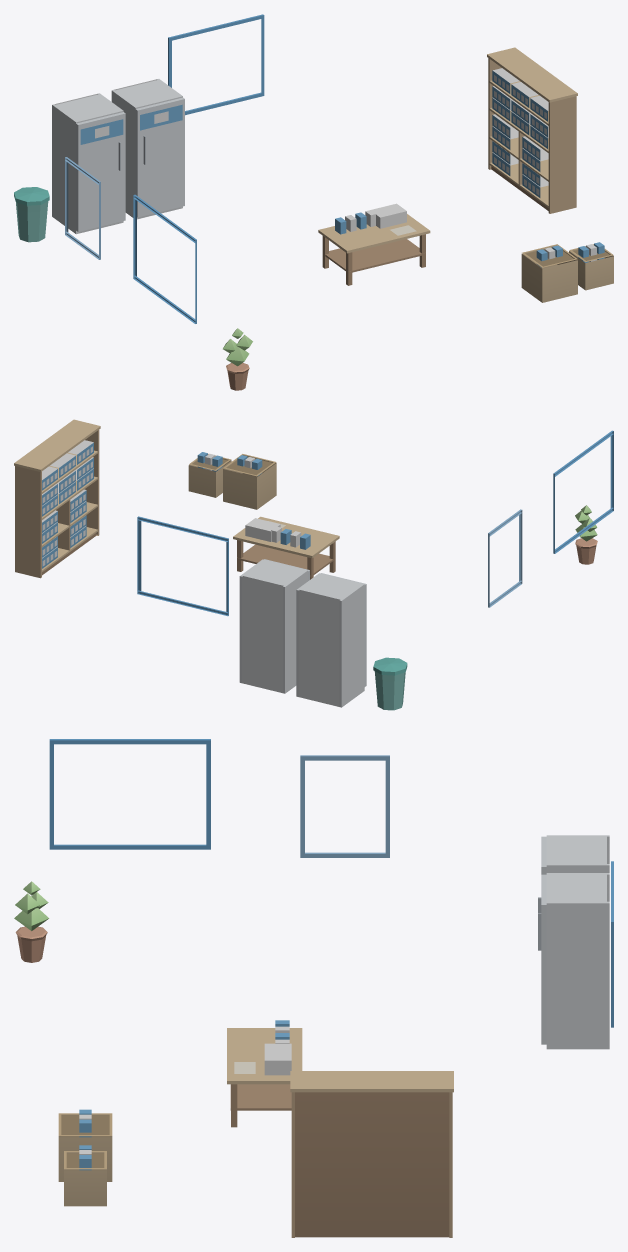
File: susu_interior_props.glb
3 renders of one model, top to bottom at view 1: azimuth 30°, elevation 25°; view 2: azimuth 150°, elevation 25°; view 3: azimuth 270°, elevation 25°, orthographic. The views are drawn at different scales.
Visible parts, largest first — view 1: rak_susu, meja_agih, pintu_peti_2, pintu_peti_1, peti_sejuk_1, lalu_bingkai, kotak_susu_1, peti_sejuk_2, tong_kitar, kotak_susu_2, pasu_1; view 2: rak_susu, peti_sejuk_1, peti_sejuk_2, meja_agih, lalu_bingkai, kotak_susu_1, tong_kitar, kotak_susu_2, pasu_1; view 3: rak_susu, peti_sejuk_2, meja_agih, lalu_bingkai, kotak_susu_2, kotak_susu_1, peti_sejuk_1, pasu_1, pintu_peti_2.
Boxes of the visible parts, x1,y1,x2,y2 form: rak_susu: (487,47,577,213); meja_agih: (318,203,430,285); pintu_peti_2: (135,97,184,217); pintu_peti_1: (76,112,125,231); peti_sejuk_1: (52,93,123,234); lalu_bingkai: (65,14,264,323); kotak_susu_1: (521,244,577,302); peti_sejuk_2: (111,79,182,219); tong_kitar: (14,187,49,242); kotak_susu_2: (569,242,613,290); pasu_1: (223,328,252,390); rak_susu: (14,419,100,578); peti_sejuk_1: (296,573,364,707); peti_sejuk_2: (239,559,307,693); meja_agih: (233,516,339,579); lalu_bingkai: (137,430,613,616); kotak_susu_1: (223,454,276,509); tong_kitar: (373,657,407,710); kotak_susu_2: (188,452,231,497); pasu_1: (575,505,597,564); rak_susu: (290,1071,453,1237); peti_sejuk_2: (546,873,609,1049); meja_agih: (227,1020,302,1127); lalu_bingkai: (49,739,613,1027); kotak_susu_2: (64,1145,106,1206); kotak_susu_1: (58,1109,112,1181); peti_sejuk_1: (546,835,609,872); pasu_1: (14,881,49,962); pintu_peti_2: (538,874,546,1044).
Bounding box in the file's own units: 7.99 × 2.42 × 6.7.
